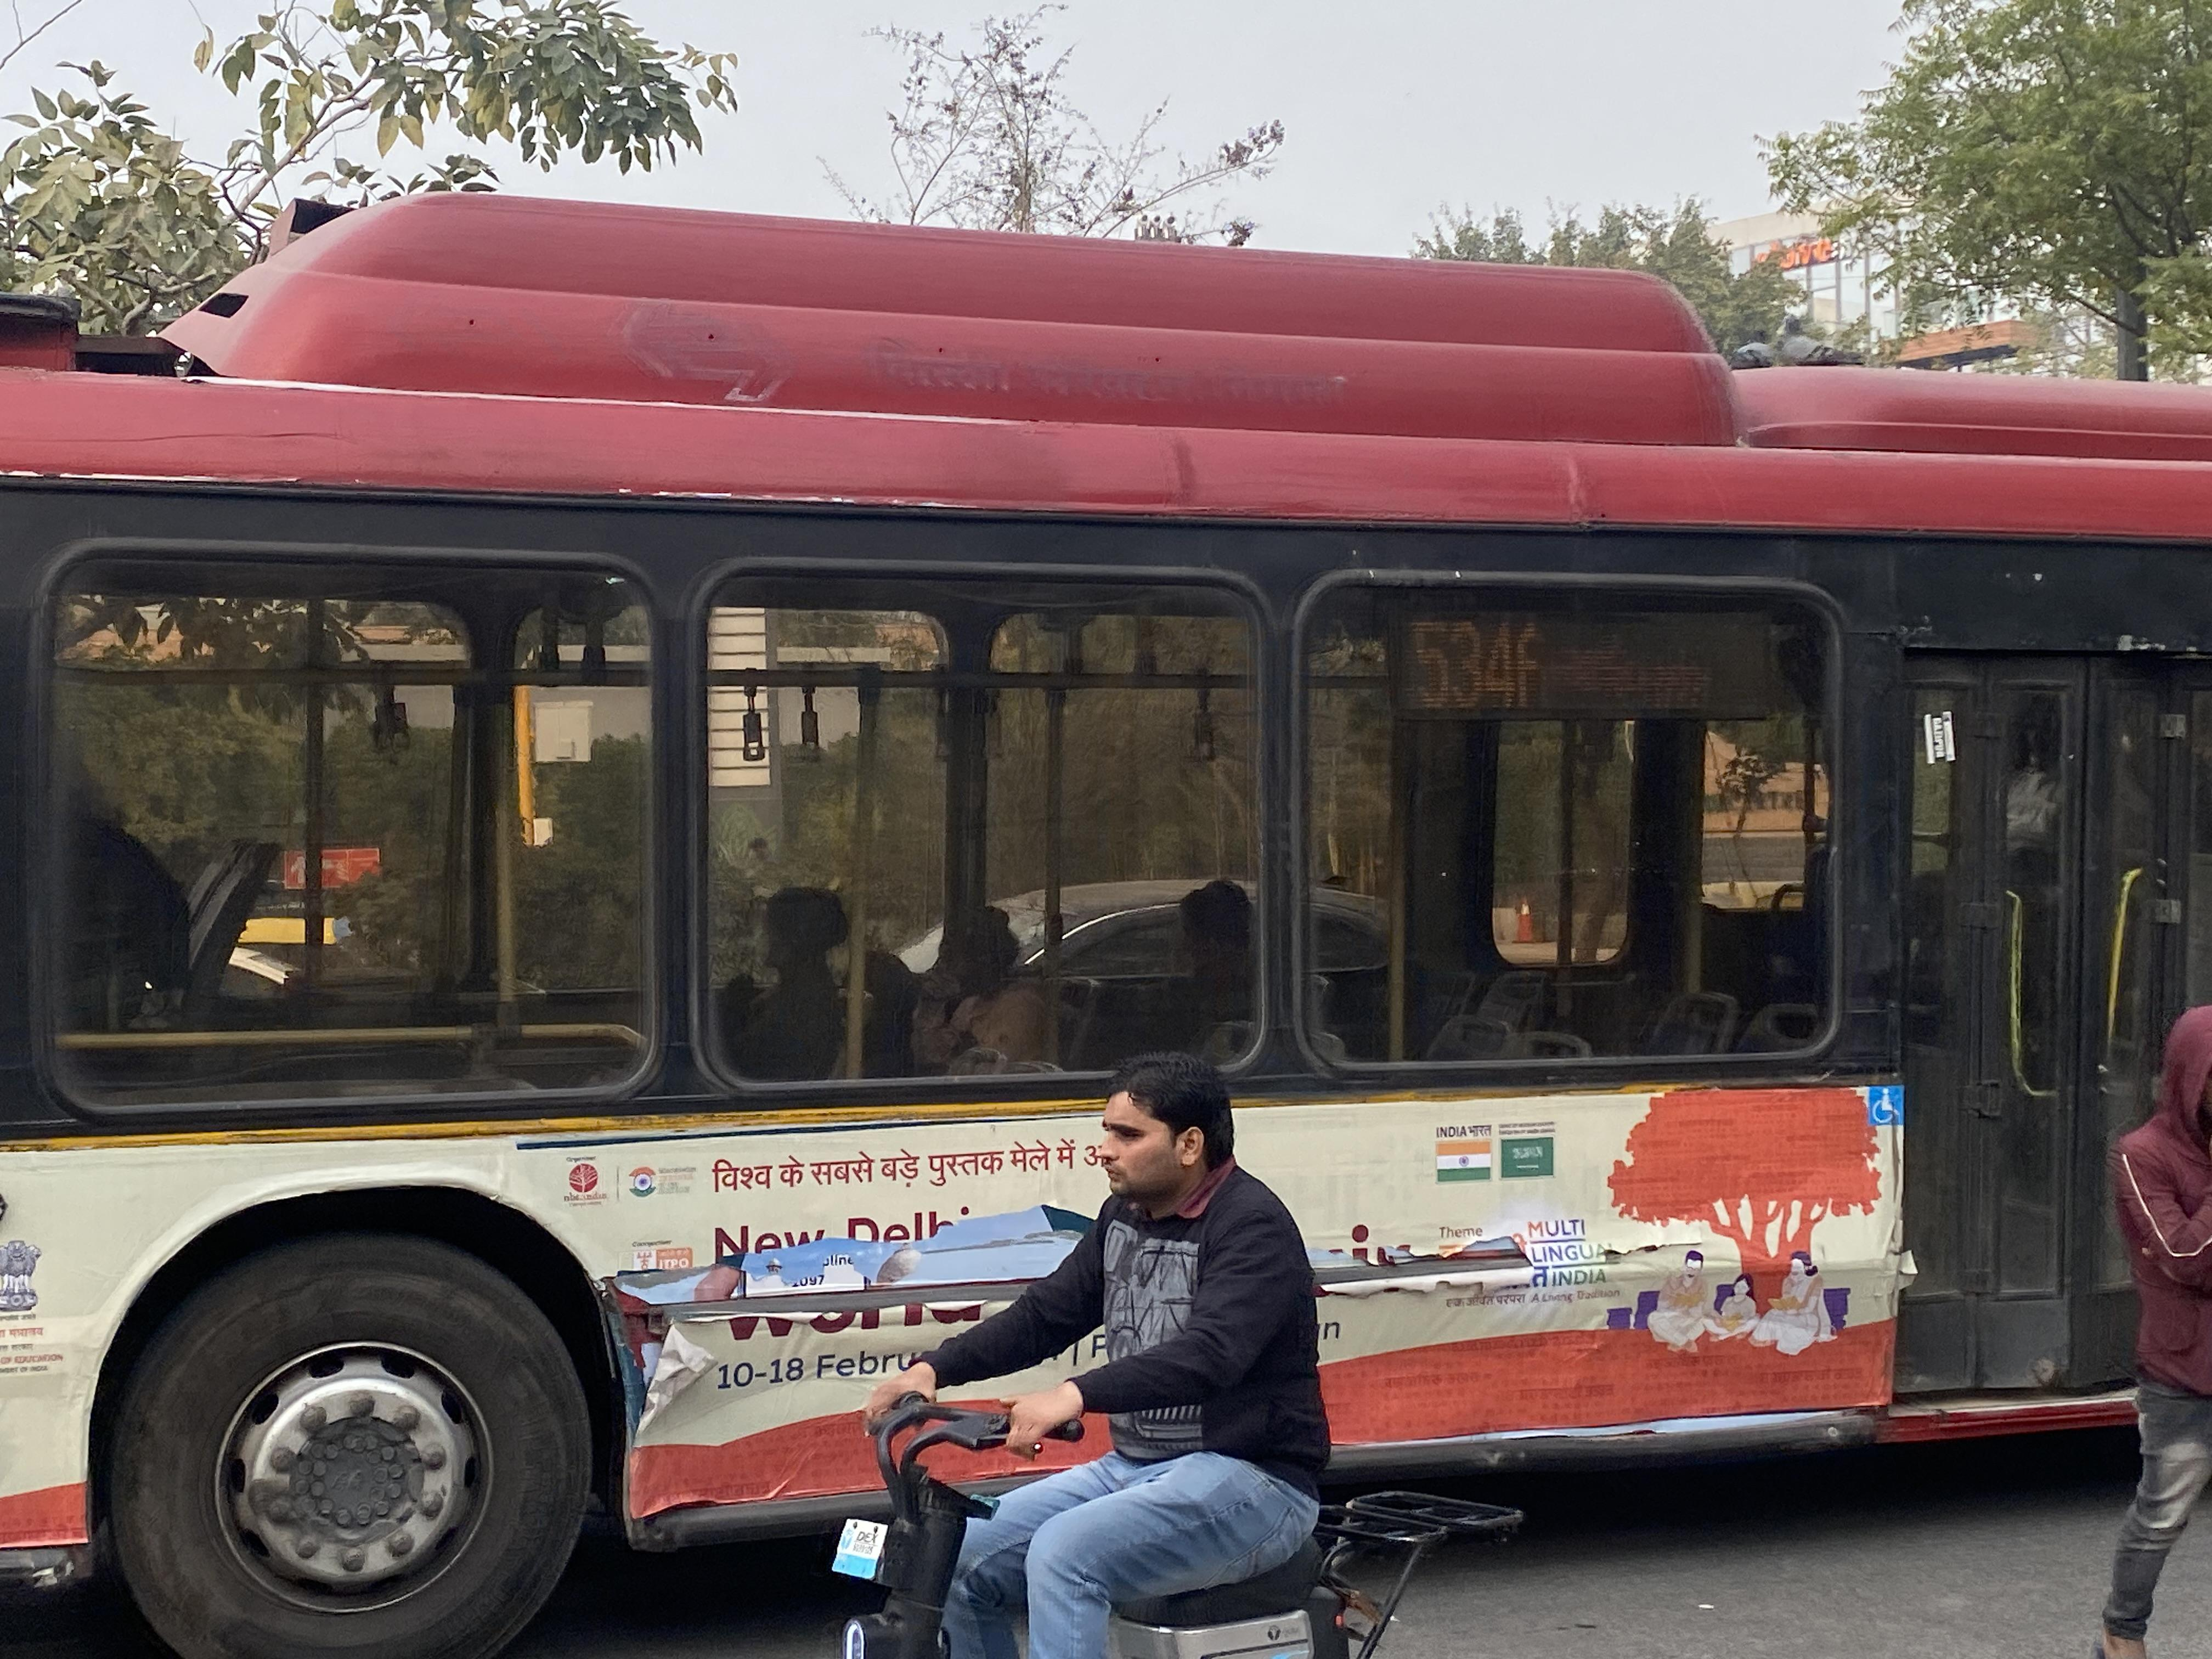Bus: (16, 319, 2212, 1448)
Display Board: (1371, 592, 1799, 741)
